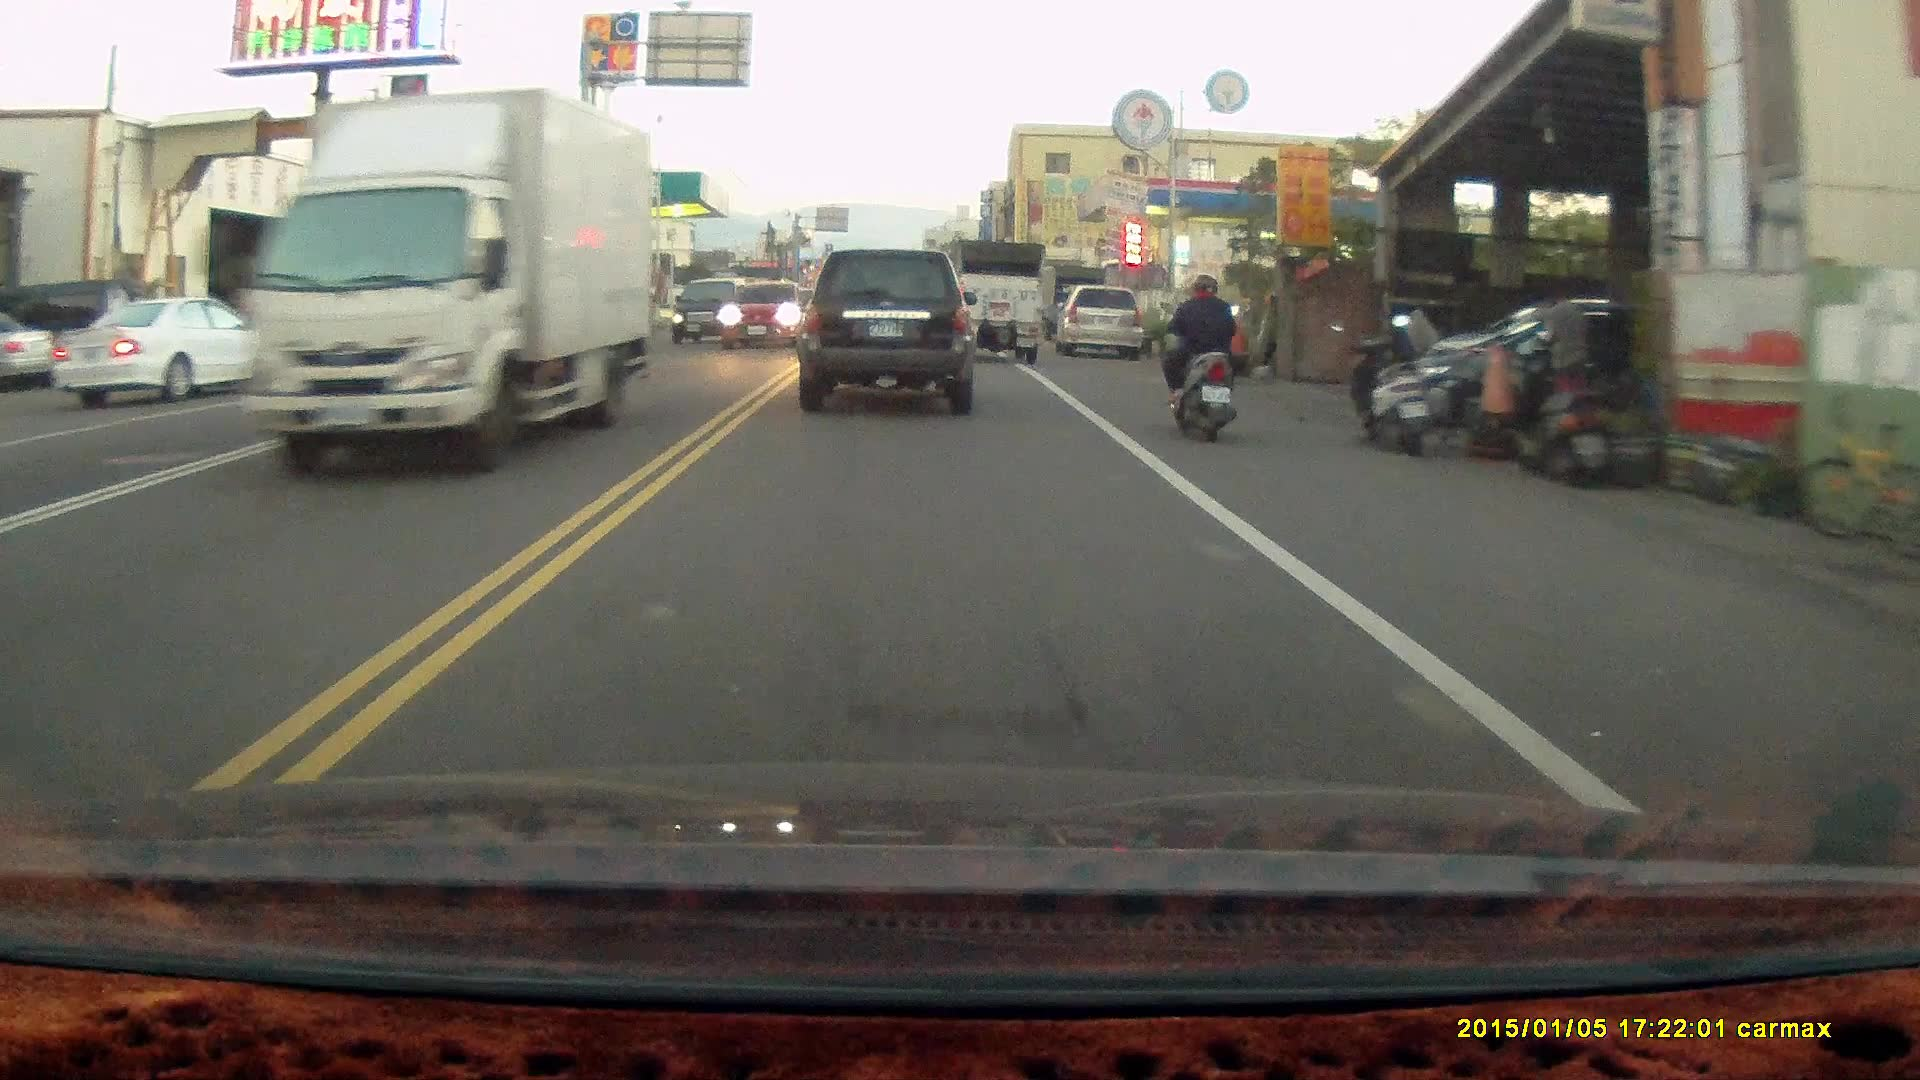pedestrian: (1538, 280, 1590, 421)
rider: (1153, 271, 1242, 444)
vehicle: (237, 86, 658, 474), (793, 246, 977, 416), (57, 299, 257, 405), (952, 237, 1045, 363), (716, 283, 813, 354), (1059, 284, 1142, 362), (1, 304, 66, 388)
